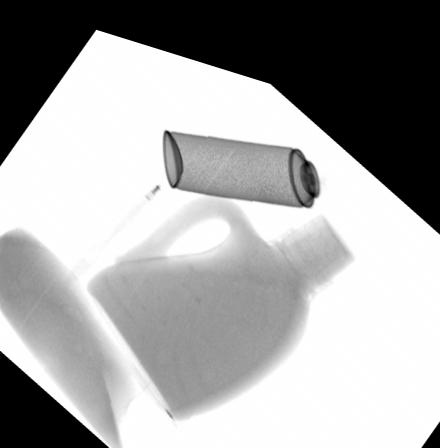Sprayer: (160, 117, 355, 191)
